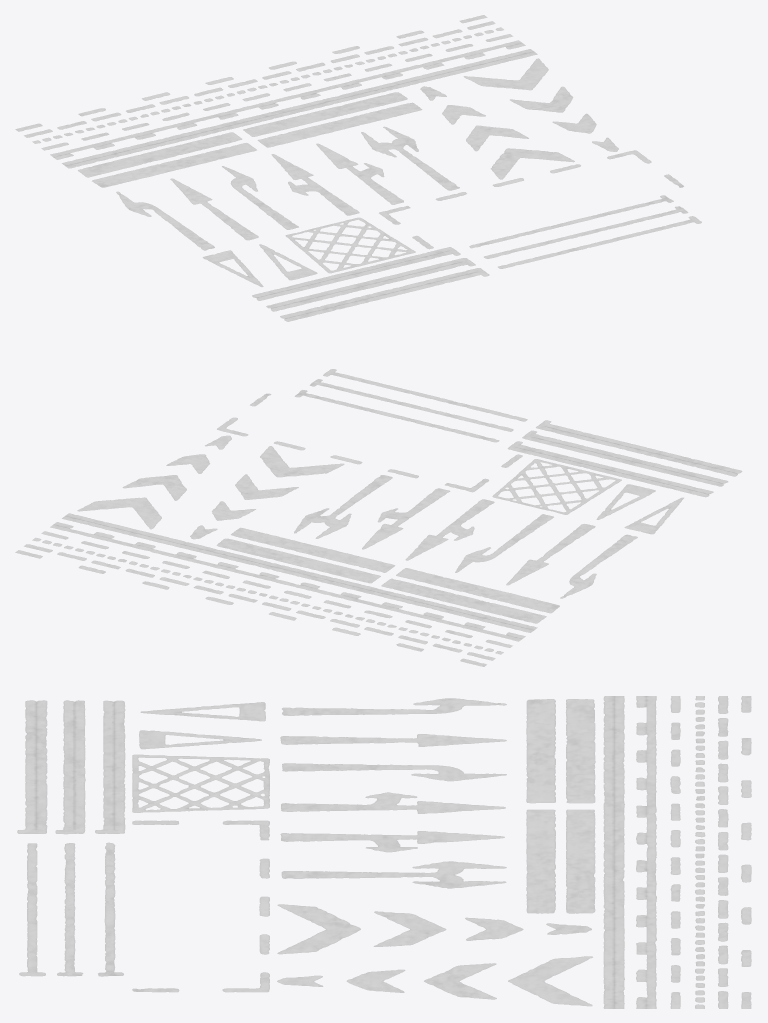
Rendered from road_sighns.fbx.
3 views of the same model, one above another, from view 1: azimuth 30°, elevation 25°; view 2: azimuth 150°, elevation 25°; view 3: azimuth 270°, elevation 25° (orthographic). The views are drawn at different scales.
Visible parts, largest first — view 1: polySurface142, polySurface136, polySurface141, polySurface137, polySurface143, islan2, island, arrow6, arrow4, arrow5, arrow1, arrow3 (+1 smaller); view 2: polySurface142, polySurface136, polySurface141, polySurface137, polySurface143, islan2, island, arrow6, arrow5, arrow4, arrow3, arrow1 (+1 smaller); view 3: polySurface136, polySurface142, polySurface141, polySurface137, polySurface143, islan2, island, arrow6, arrow4, arrow5, arrow1, arrow3 (+1 smaller).
Part boxes in pixels (box(x1,y1,x2,y2)): polySurface142: box(15, 15, 525, 159); polySurface136: box(252, 195, 701, 321); polySurface141: box(78, 92, 422, 187); polySurface137: box(202, 150, 683, 286); polySurface143: box(62, 49, 537, 168); islan2: box(463, 58, 618, 151); island: box(420, 86, 574, 179); arrow6: box(361, 126, 459, 190); arrow4: box(271, 154, 359, 215); arrow5: box(316, 143, 403, 204); arrow1: box(116, 191, 214, 250); arrow3: box(222, 166, 298, 229); polySurface142: box(15, 522, 525, 666); polySurface136: box(294, 369, 742, 497); polySurface141: box(216, 527, 559, 623); polySurface137: box(217, 393, 683, 534); polySurface143: box(62, 513, 537, 632); islan2: box(77, 435, 231, 529); island: box(190, 446, 344, 539); arrow6: box(294, 475, 392, 538); arrow5: box(362, 488, 450, 549); arrow4: box(405, 499, 494, 560); arrow3: box(455, 514, 553, 572); arrow1: box(560, 534, 637, 598); polySurface136: box(17, 700, 125, 976); polySurface142: box(636, 696, 751, 1008); polySurface141: box(526, 699, 595, 913); polySurface137: box(132, 702, 269, 992); polySurface143: box(603, 696, 624, 1008); islan2: box(277, 956, 592, 1006); island: box(277, 904, 591, 954); arrow6: box(281, 861, 506, 888); arrow4: box(281, 792, 505, 813); arrow5: box(280, 831, 504, 852); arrow1: box(282, 698, 506, 715); arrow3: box(282, 763, 506, 781).
Bounding box in the file's own units: 4552 × 6.68e-06 × 4552.
Materials: 1 (1 with a texture image).
